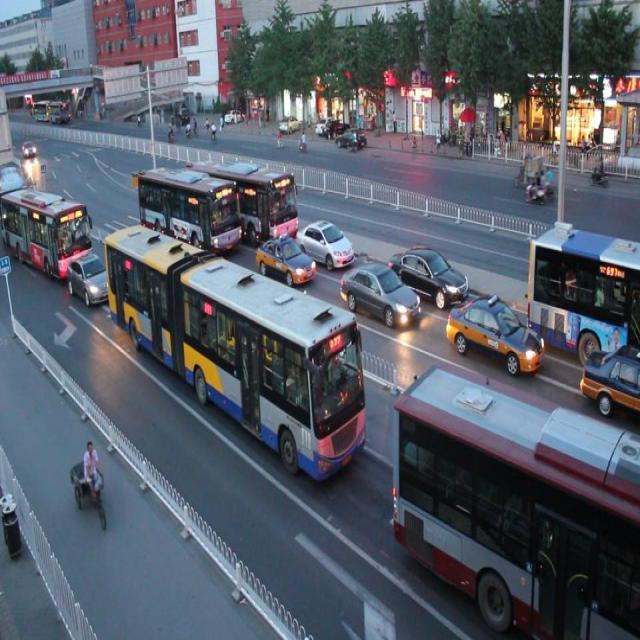car: (446, 294, 544, 382), (337, 258, 416, 331), (390, 243, 468, 309), (579, 337, 640, 414), (253, 230, 314, 289), (294, 214, 352, 273), (67, 250, 116, 308)
van: (102, 218, 366, 482), (393, 367, 640, 640), (524, 225, 640, 358), (136, 160, 240, 262), (191, 153, 298, 248), (1, 182, 90, 272)
